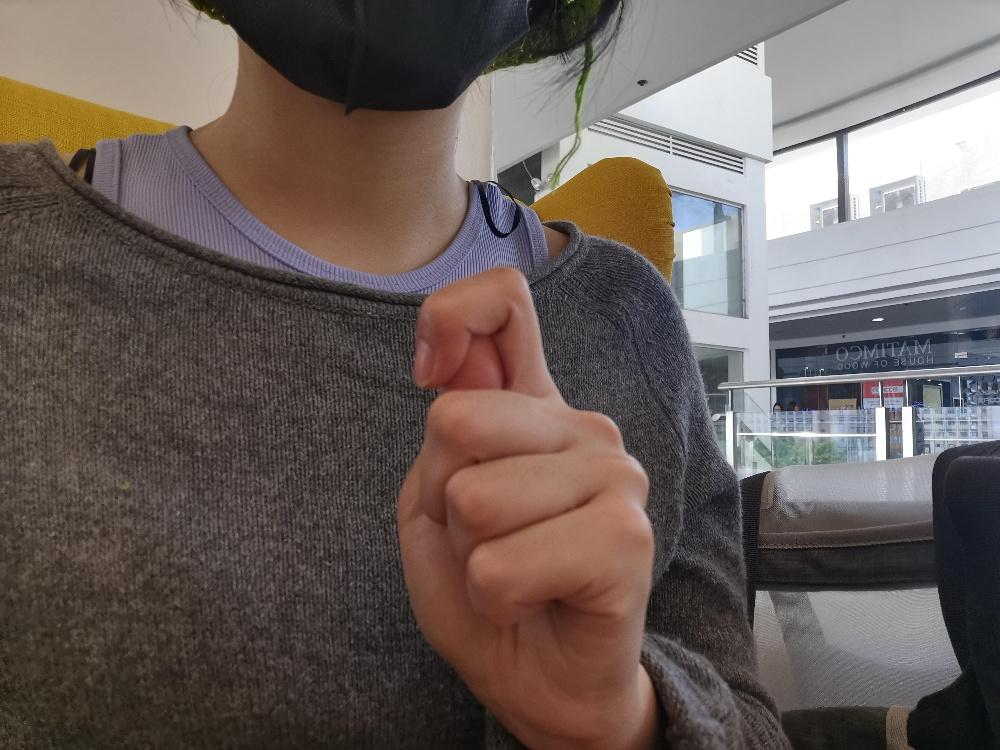t: (394, 261, 656, 739)
